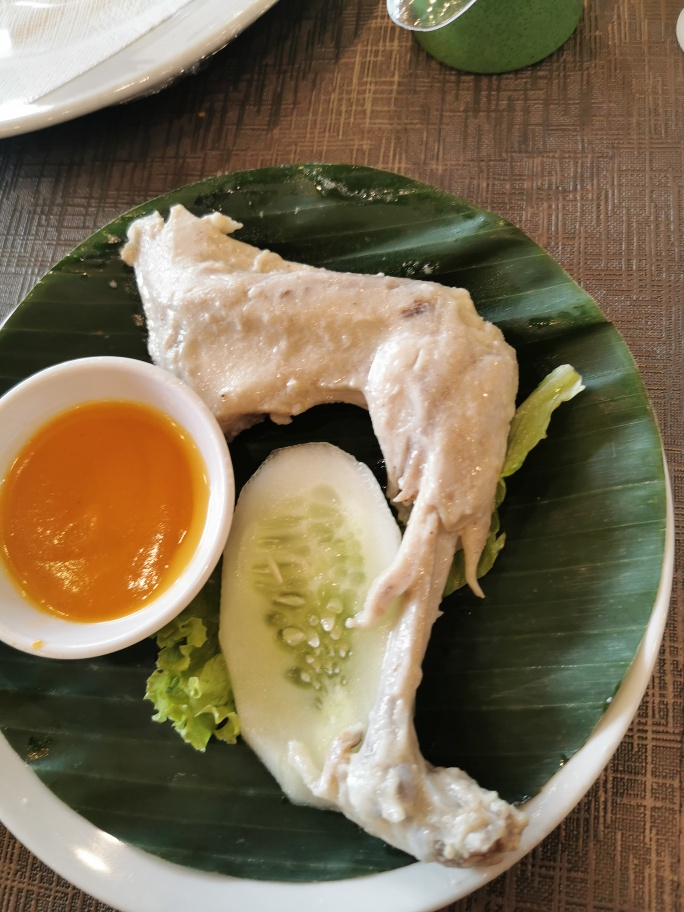ayam pop: (114, 213, 527, 868)
extra: (1, 404, 406, 816)
